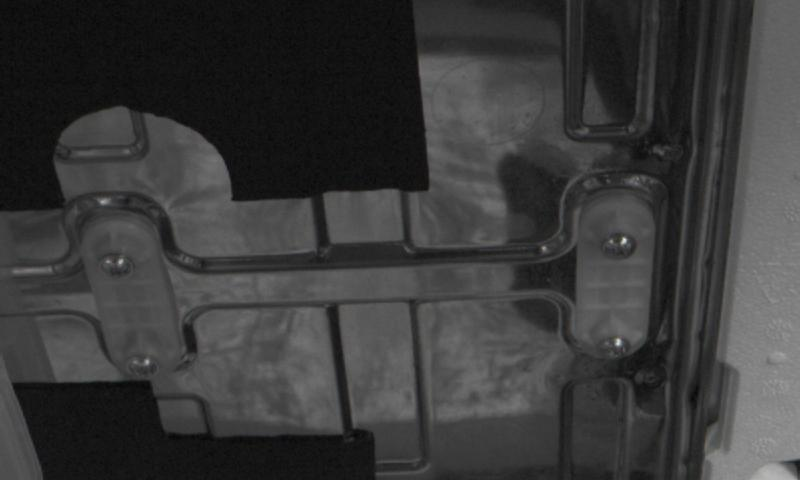vida-ok: (599, 223, 646, 267), (88, 245, 134, 289), (594, 327, 640, 367), (118, 346, 163, 385)
